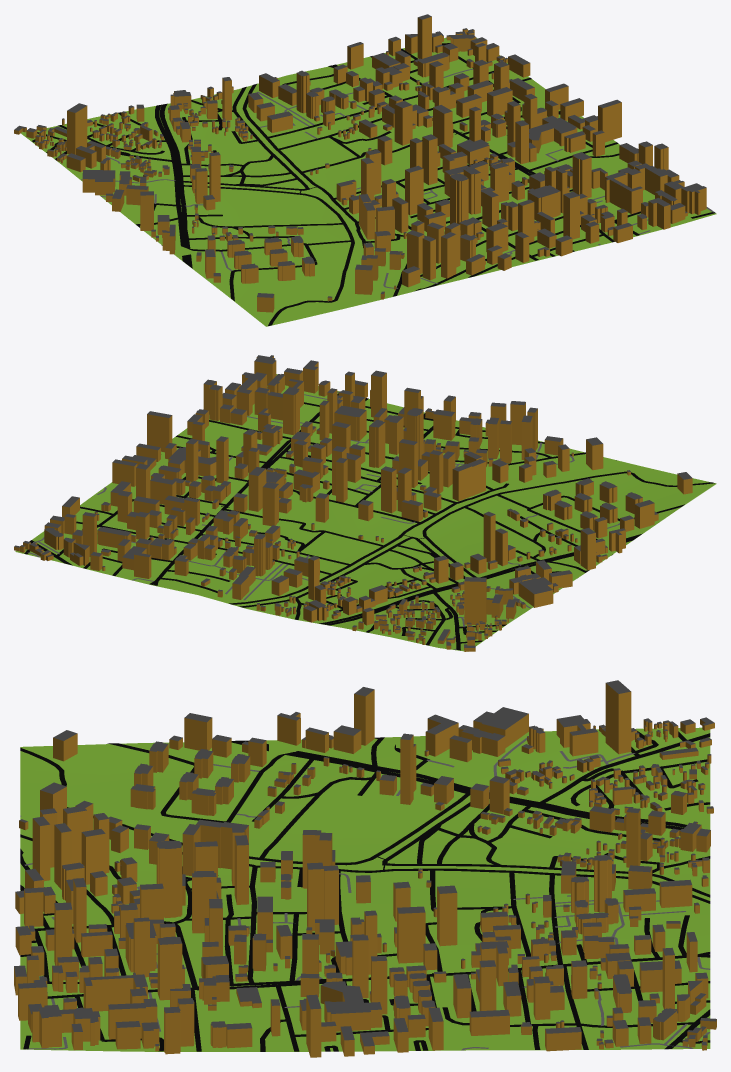
Rendered from tile_05_06.glb.
The picture shows the model from 3 angles, top to bottom: view 1: azimuth 30°, elevation 25°; view 2: azimuth 150°, elevation 25°; view 3: azimuth 270°, elevation 25°; orthographic projection. The views are drawn at different scales.
Visible parts, largest first — view 1: Ub_small.osm_buildings_05_06, Terrain_05_06, Ub_small.osm_roads_residential_05_06, Ub_small.osm_roads_primary_05_06, Ub_small.osm_roads_service_05_06, Ub_small.osm_roads_secondary_05_06; view 2: Ub_small.osm_buildings_05_06, Terrain_05_06, Ub_small.osm_roads_residential_05_06, Ub_small.osm_roads_secondary_05_06, Ub_small.osm_roads_primary_05_06, Ub_small.osm_roads_service_05_06; view 3: Ub_small.osm_buildings_05_06, Terrain_05_06, Ub_small.osm_roads_residential_05_06, Ub_small.osm_roads_secondary_05_06, Ub_small.osm_roads_primary_05_06, Ub_small.osm_roads_service_05_06.
Boxes of the visible parts, bbox=[...] form: Ub_small.osm_buildings_05_06: bbox=[14, 14, 706, 312]; Terrain_05_06: bbox=[21, 38, 716, 326]; Ub_small.osm_roads_residential_05_06: bbox=[32, 48, 715, 325]; Ub_small.osm_roads_primary_05_06: bbox=[155, 43, 450, 268]; Ub_small.osm_roads_service_05_06: bbox=[81, 37, 713, 303]; Ub_small.osm_roads_secondary_05_06: bbox=[37, 64, 639, 260]; Ub_small.osm_buildings_05_06: bbox=[14, 355, 692, 651]; Terrain_05_06: bbox=[15, 374, 716, 651]; Ub_small.osm_roads_residential_05_06: bbox=[24, 398, 714, 645]; Ub_small.osm_roads_secondary_05_06: bbox=[149, 393, 460, 650]; Ub_small.osm_roads_primary_05_06: bbox=[29, 533, 642, 625]; Ub_small.osm_roads_service_05_06: bbox=[27, 387, 619, 649]; Ub_small.osm_buildings_05_06: bbox=[14, 680, 716, 1057]; Terrain_05_06: bbox=[20, 727, 710, 1051]; Ub_small.osm_roads_residential_05_06: bbox=[20, 731, 710, 1051]; Ub_small.osm_roads_secondary_05_06: bbox=[34, 733, 710, 998]; Ub_small.osm_roads_primary_05_06: bbox=[231, 740, 710, 1049]; Ub_small.osm_roads_service_05_06: bbox=[20, 737, 710, 1050].
Bounding box in the file's own units: 1020 × 117 × 947.
